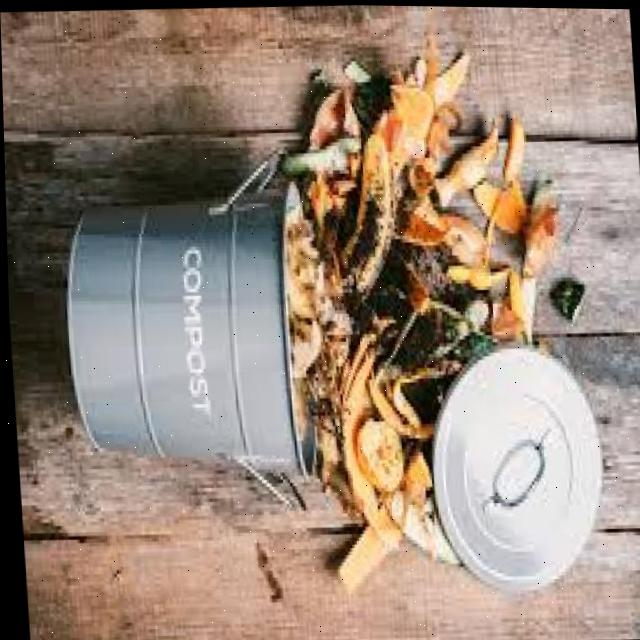Wet: (264, 23, 622, 621)
